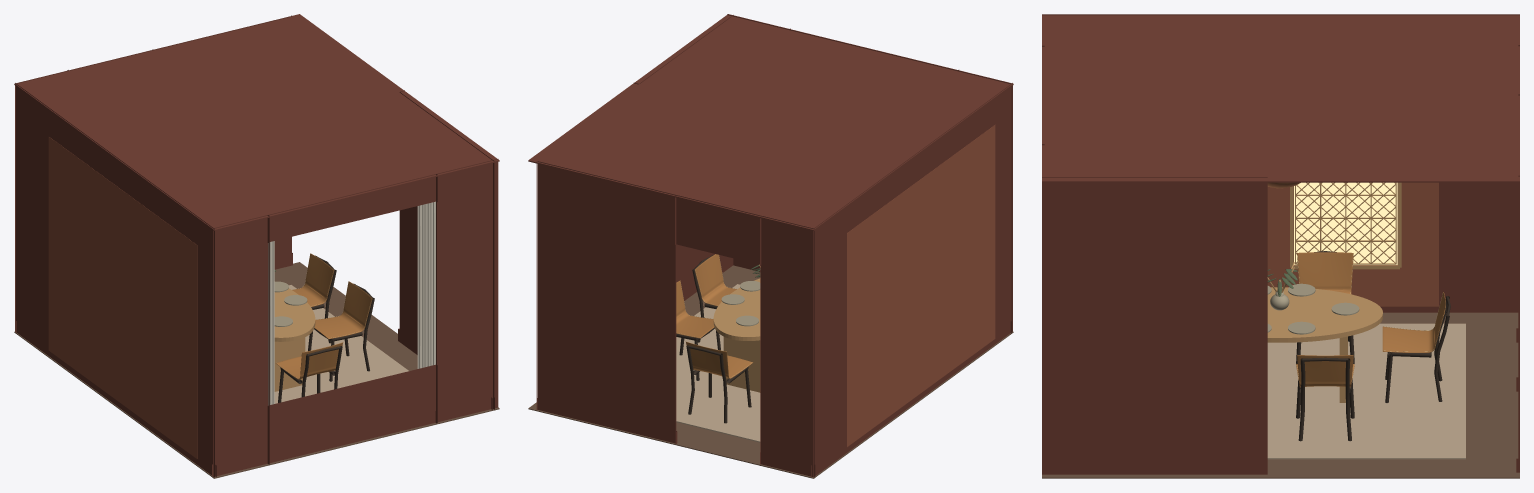
File: dining-2.glb
3 views of the same model, side by side, from view 1: azimuth 30°, elevation 25°; view 2: azimuth 150°, elevation 25°; view 3: azimuth 270°, elevation 25° (orthographic). The views are drawn at different scales.
Visible parts, largest first — view 1: DESIGN | dining removable wall finish, DESIGN | dining ceiling finish, DESIGN | Dining clay wall field, DESIGN | dining floor finish, DESIGN | Dining ground, DESIGN | Dining linen edge.001, DESIGN | Required Isadora dining chair 3, DESIGN | Required Isadora dining chair 5, DESIGN | Dining table top, DESIGN | Required Isadora dining chair 4, DESIGN | Dining linen edge, DESIGN | Dining table trestle; view 2: DESIGN | dining removable wall finish, DESIGN | dining ceiling finish, DESIGN | Dining clay wall field, DESIGN | Dining ground, DESIGN | dining floor finish, DESIGN | Required Isadora dining chair 6, DESIGN | Dining table top, DESIGN | Required Isadora dining chair 3, DESIGN | Dining table trestle.001, DESIGN | Required Isadora dining chair 4; view 3: DESIGN | dining ceiling finish, DESIGN | dining removable wall finish, DESIGN | Dining ground, DESIGN | dining floor finish, DESIGN | Dining clay wall field, DESIGN | Dining paired lit panels diffuse backing.001, DESIGN | Kumiko | Dining paired lit panels.001, DESIGN | Dining table top, DESIGN | Required Isadora dining chair 6, DESIGN | Required Isadora dining chair 4, DESIGN | Required Isadora dining chair 2.
Part boxes in pixels (<box>): DESIGN | dining removable wall finish: <box>15,15,498,477</box>; DESIGN | dining ceiling finish: <box>14,14,499,230</box>; DESIGN | Dining clay wall field: <box>48,137,197,458</box>; DESIGN | dining floor finish: <box>14,262,499,478</box>; DESIGN | Dining ground: <box>274,285,408,403</box>; DESIGN | Dining linen edge.001: <box>417,201,435,368</box>; DESIGN | Required Isadora dining chair 3: <box>308,281,374,381</box>; DESIGN | Required Isadora dining chair 5: <box>276,342,343,402</box>; DESIGN | Dining table top: <box>274,288,315,341</box>; DESIGN | Required Isadora dining chair 4: <box>292,253,336,343</box>; DESIGN | Dining linen edge: <box>268,241,274,405</box>; DESIGN | Dining table trestle: <box>274,337,305,391</box>; DESIGN | dining removable wall finish: <box>536,14,1012,477</box>; DESIGN | dining ceiling finish: <box>528,14,1013,230</box>; DESIGN | Dining clay wall field: <box>847,125,995,446</box>; DESIGN | Dining ground: <box>676,284,760,442</box>; DESIGN | dining floor finish: <box>528,265,1013,478</box>; DESIGN | Required Isadora dining chair 6: <box>686,341,753,423</box>; DESIGN | Dining table top: <box>713,278,760,340</box>; DESIGN | Required Isadora dining chair 3: <box>692,254,736,342</box>; DESIGN | Dining table trestle.001: <box>723,337,760,392</box>; DESIGN | Required Isadora dining chair 4: <box>676,280,720,380</box>; DESIGN | dining ceiling finish: <box>1042,15,1519,182</box>; DESIGN | dining removable wall finish: <box>1042,14,1519,474</box>; DESIGN | Dining ground: <box>1267,323,1465,459</box>; DESIGN | dining floor finish: <box>1042,312,1519,478</box>; DESIGN | Dining clay wall field: <box>1267,182,1438,306</box>; DESIGN | Dining paired lit panels diffuse backing.001: <box>1294,182,1397,264</box>; DESIGN | Kumiko | Dining paired lit panels.001: <box>1290,182,1401,269</box>; DESIGN | Dining table top: <box>1267,287,1382,342</box>; DESIGN | Required Isadora dining chair 6: <box>1382,292,1450,402</box>; DESIGN | Required Isadora dining chair 4: <box>1296,354,1354,441</box>; DESIGN | Required Isadora dining chair 2: <box>1296,251,1354,363</box>.
Size of the model in its own units: 3.28 by 2.74 by 3.98.
